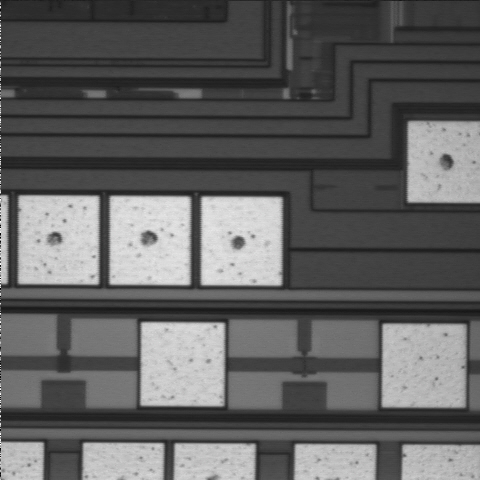pad: (201, 197, 282, 285), (110, 196, 190, 285), (19, 196, 99, 284), (141, 323, 224, 406), (383, 325, 465, 407)
